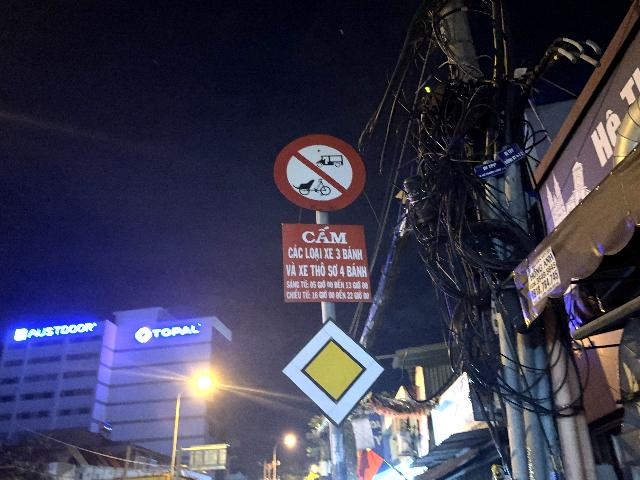bat-dau-duong-uu-tien: (279, 315, 388, 427)
cam-xe-3-banh-xe-tho-so-4-banh: (273, 133, 366, 212)
